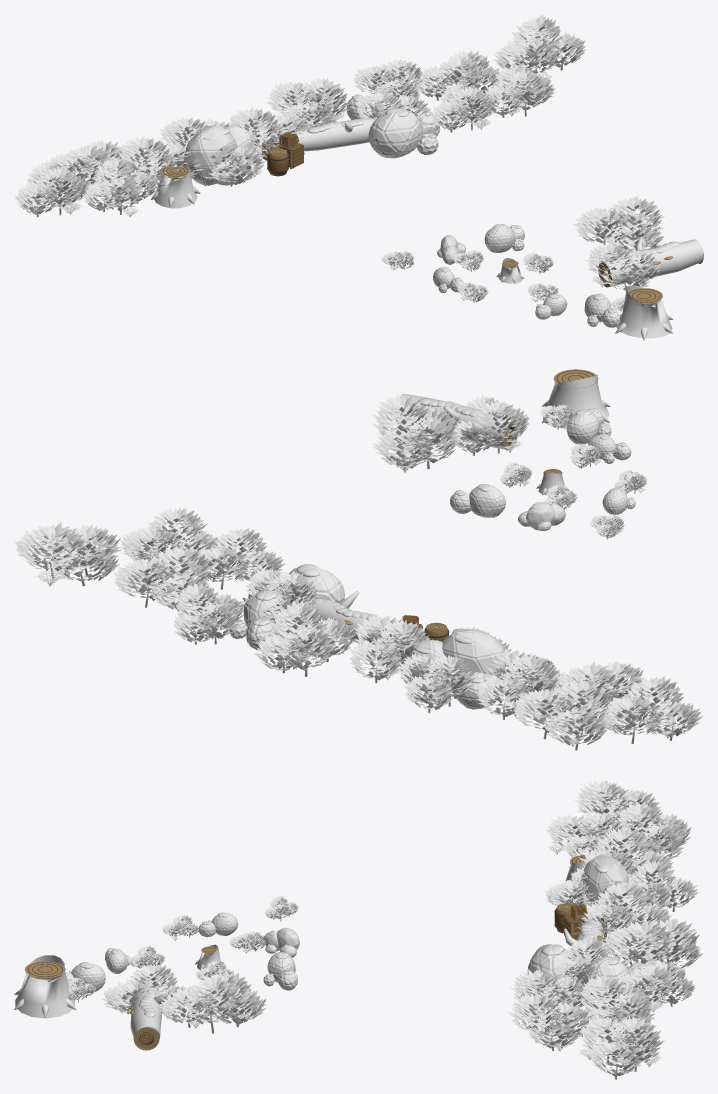
Rendered from SM_DF_Explorer_2_3_Macro.fbx.
3 views of the same model, one above another, from view 1: azimuth 30°, elevation 25°; view 2: azimuth 150°, elevation 25°; view 3: azimuth 270°, elevation 25° (orthographic). The views are drawn at different scales.
Parts seen in each view (by area): view 1: SM_DF_Explorer_2_3_Macro; view 2: SM_DF_Explorer_2_3_Macro; view 3: SM_DF_Explorer_2_3_Macro.
Boxes of the visible parts, x1,y1,x2,y2 form: SM_DF_Explorer_2_3_Macro: [14, 14, 703, 340]; SM_DF_Explorer_2_3_Macro: [14, 369, 703, 750]; SM_DF_Explorer_2_3_Macro: [14, 780, 703, 1079].
Bounding box in the file's own units: 2939 × 2860 × 349.
